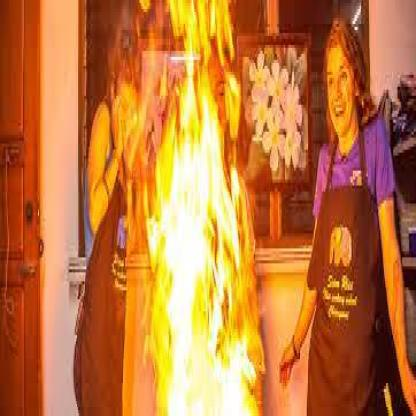Fire: (128, 0, 266, 413)
